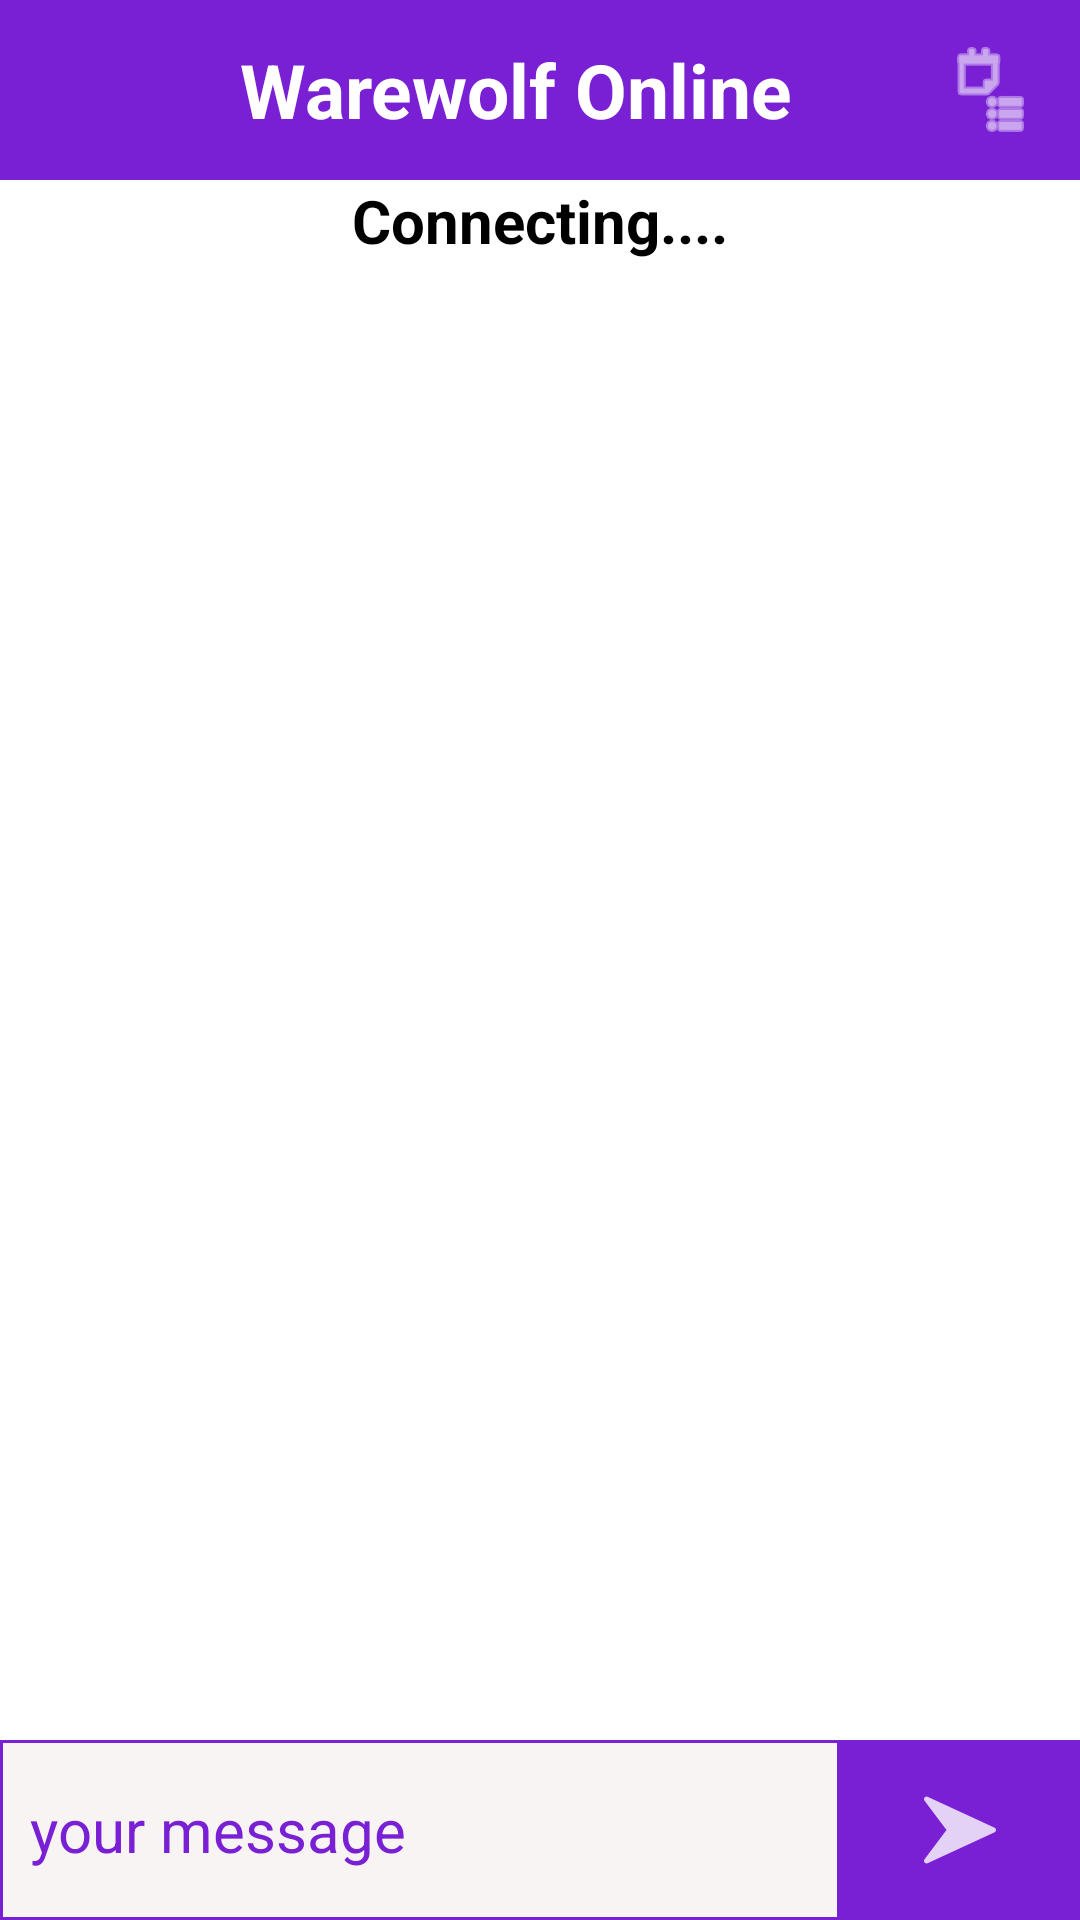

Icons on this 1080px×1920px Android screen, each with the point to tap as (x=x, y=y):
agenda: (x=990, y=89)
send: (x=960, y=1830)
